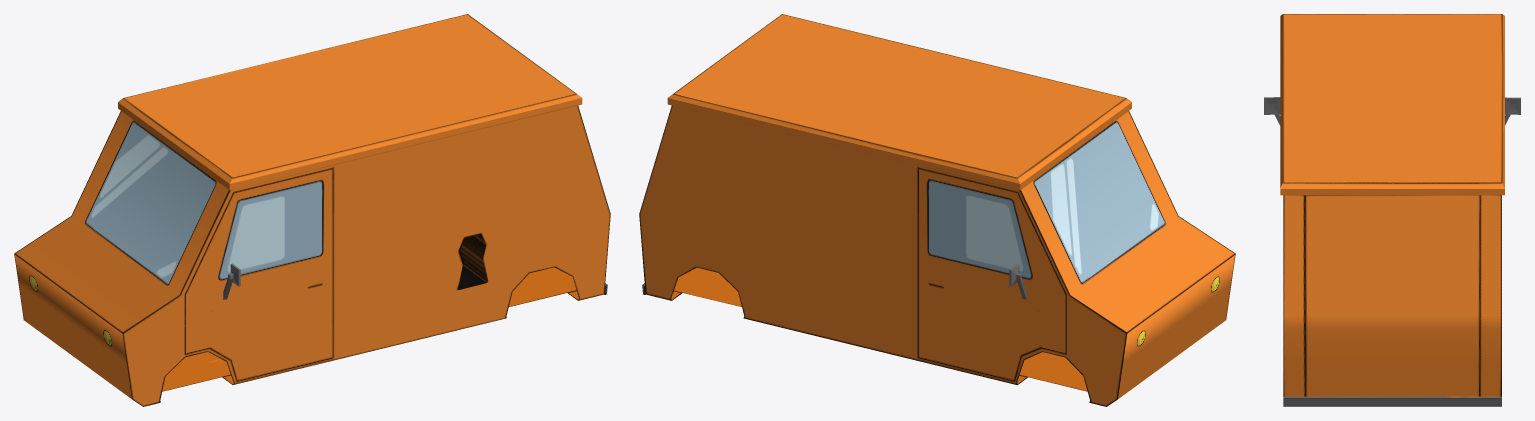
Rendered from Van.fbx.
3 renders of one model, left to right at view 1: azimuth 30°, elevation 25°; view 2: azimuth 150°, elevation 25°; view 3: azimuth 270°, elevation 25°, orthographic.
Visible parts, largest first — view 1: Retro2; view 2: Retro2; view 3: Retro2.
Boxes of the visible parts, left/top/right/bottom form: Retro2: left=14, top=14, right=610, bottom=406; Retro2: left=639, top=14, right=1235, bottom=406; Retro2: left=1264, top=14, right=1520, bottom=406.
Size of the model in its own units: 2.59 by 1.06 by 1.17.
